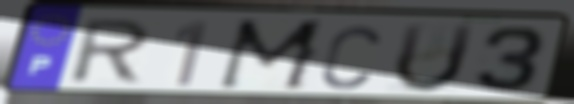1: (171, 19, 212, 88)
3: (473, 25, 552, 95)
C: (317, 22, 384, 91)
M: (212, 18, 331, 93)
R: (63, 18, 156, 86)
U: (389, 22, 479, 96)
